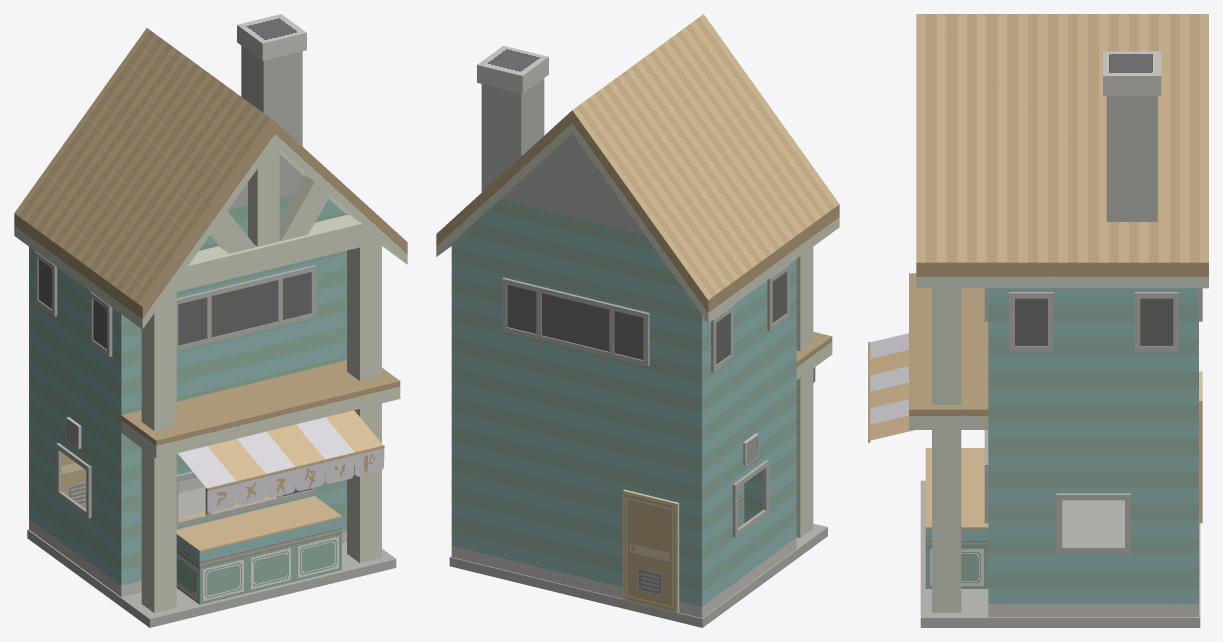
Rendered from 02ac_Candy_Store.glb.
3 renders of one model, left to right at view 1: azimuth 30°, elevation 25°; view 2: azimuth 150°, elevation 25°; view 3: azimuth 270°, elevation 25°, orthographic. The views are drawn at different scales.
Parts seen in each view (by area): view 1: part_0; view 2: part_0; view 3: part_0.
Boxes of the visible parts, bbox=[...] form: part_0: bbox=[14, 14, 407, 627]; part_0: bbox=[436, 14, 839, 627]; part_0: bbox=[868, 14, 1208, 627].
Bounding box in the file's own units: 4.78 × 8.24 × 4.66.
1 material, 1 textured.
